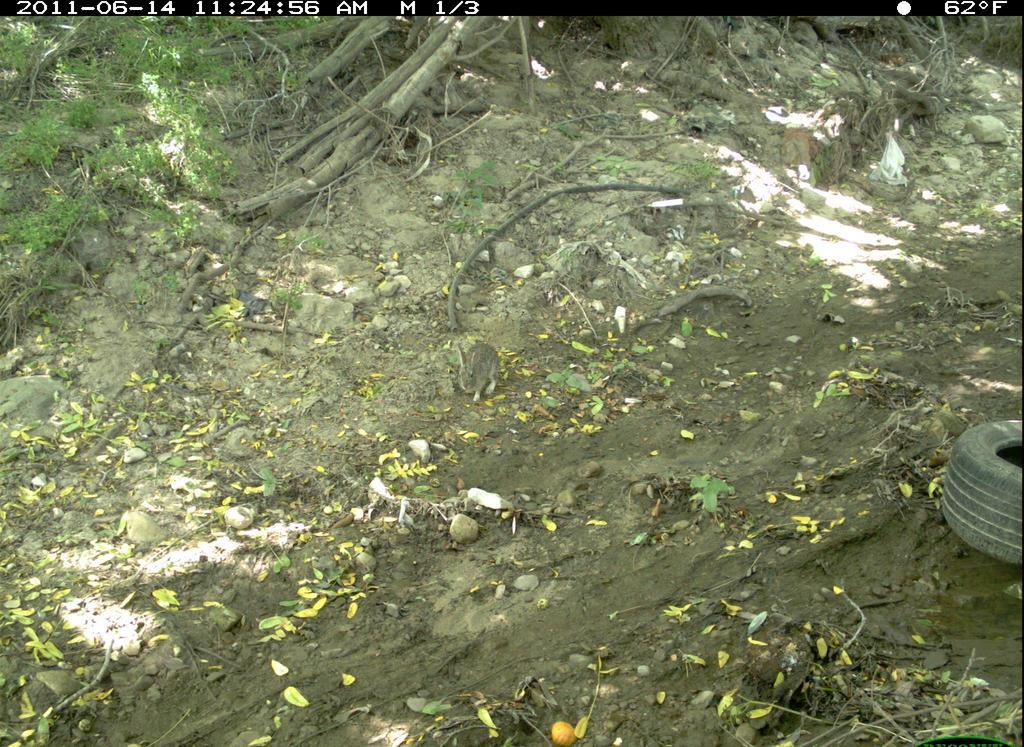rabbit: (452, 333, 509, 413)
